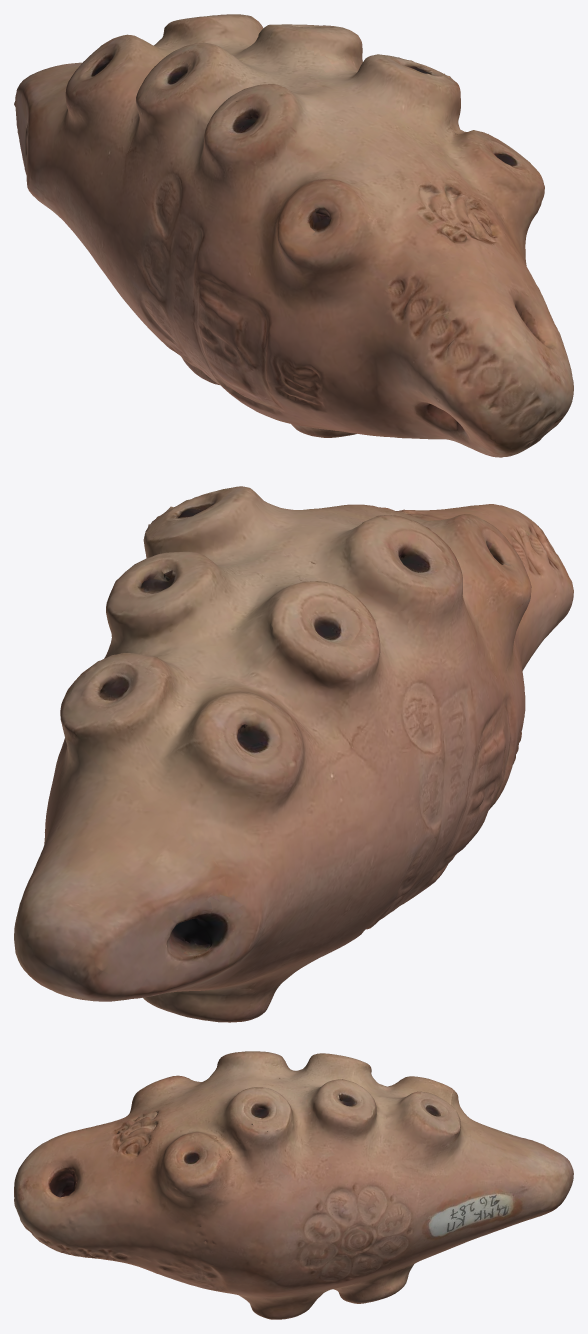
Rendered from sazsyrnai.glb.
3 renders of one model, top to bottom at view 1: azimuth 30°, elevation 25°; view 2: azimuth 150°, elevation 25°; view 3: azimuth 270°, elevation 25°, orthographic. The views are drawn at different scales.
Parts seen in each view (by area): view 1: Polygon Reduction; view 2: Polygon Reduction; view 3: Polygon Reduction.
Boxes of the visible parts, x1,y1,x2,y2 form: Polygon Reduction: (14,14,573,457); Polygon Reduction: (14,486,573,1022); Polygon Reduction: (14,1051,573,1319).
Bounding box in the file's own units: 87.46 × 101 × 219.
Materials: 1 (1 with a texture image).
